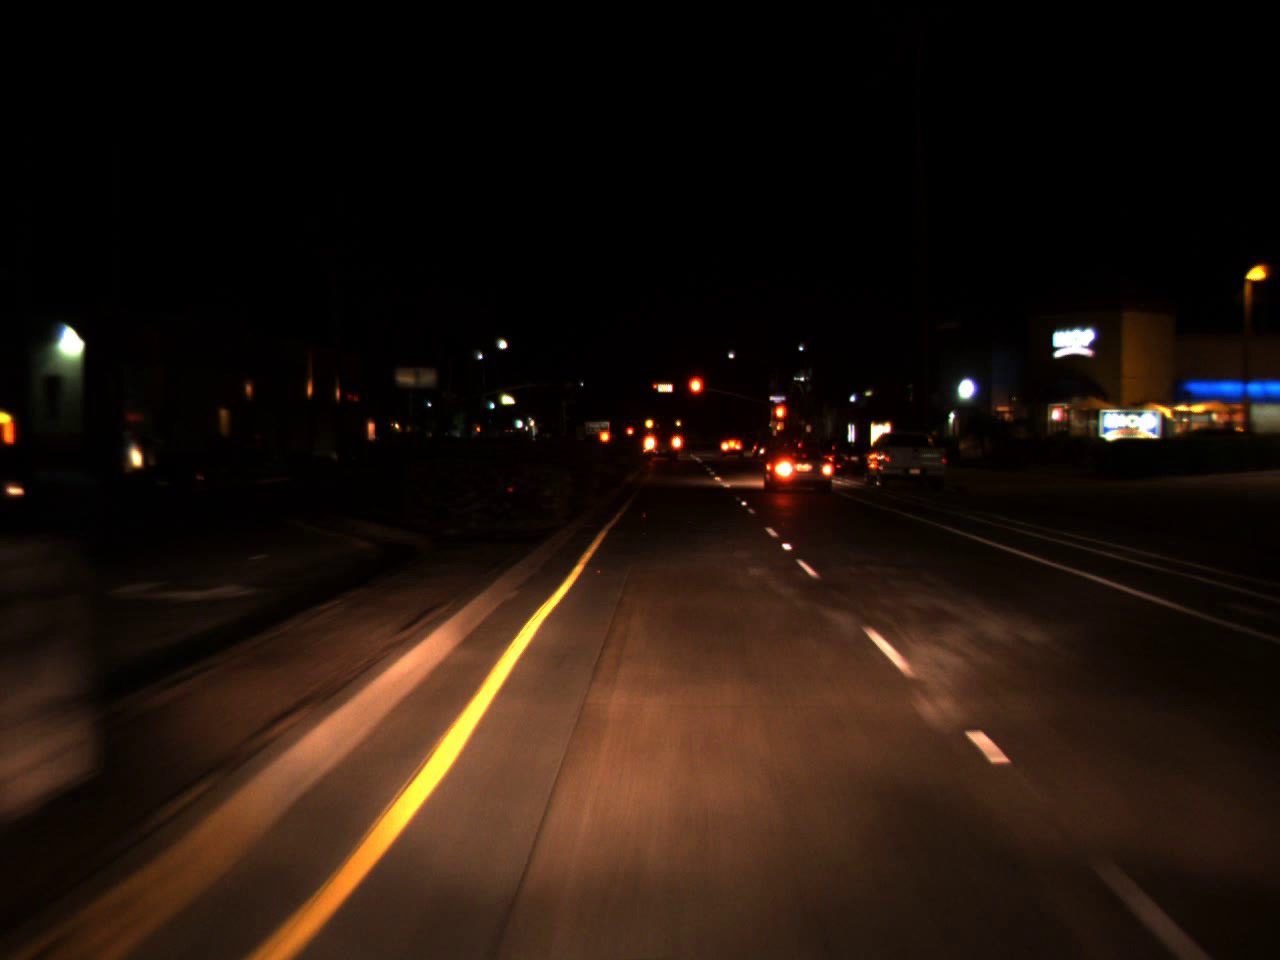stop: (685, 374, 704, 411), (772, 403, 788, 435), (653, 383, 659, 393)
